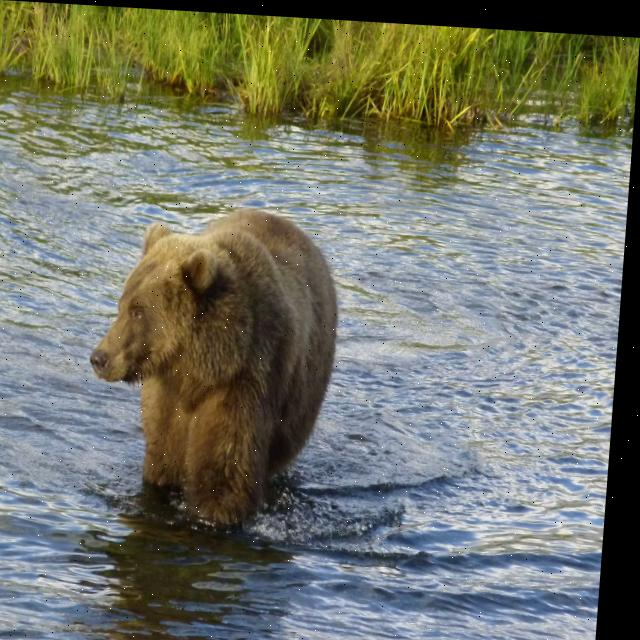bear face: (83, 201, 352, 501)
